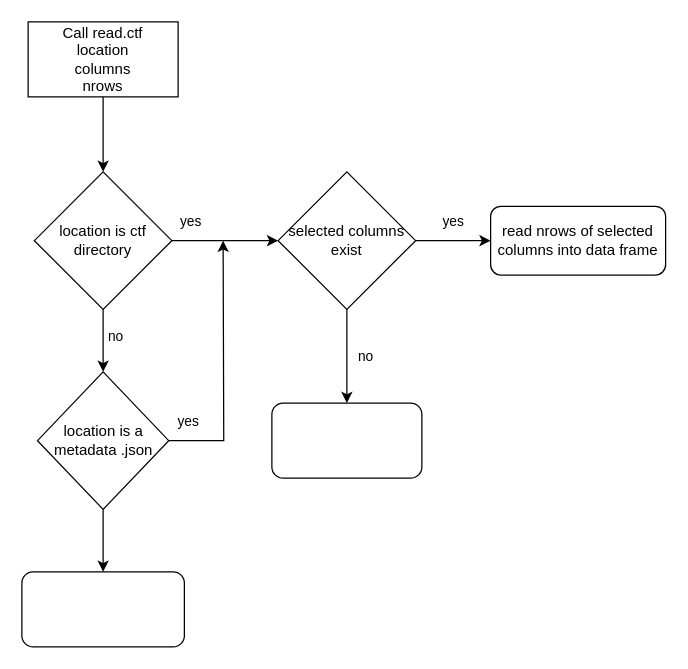
This 688x669 diagram has some shape labels left out. Each missing label, with the centre of its shape:
"error column names don't match" belongs at (346,440).
"error location not valid CTF" belongs at (102,609).
